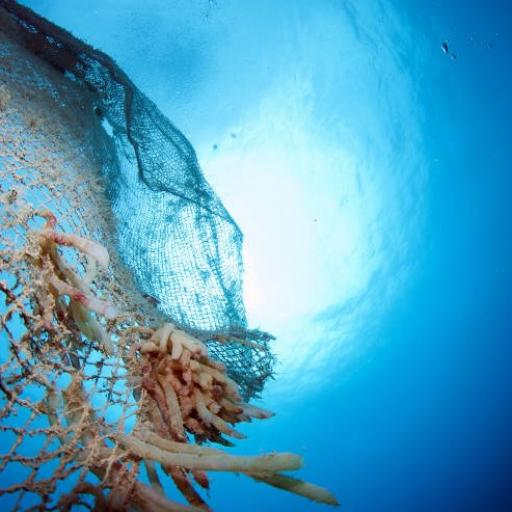net: (0, 0, 283, 512)
